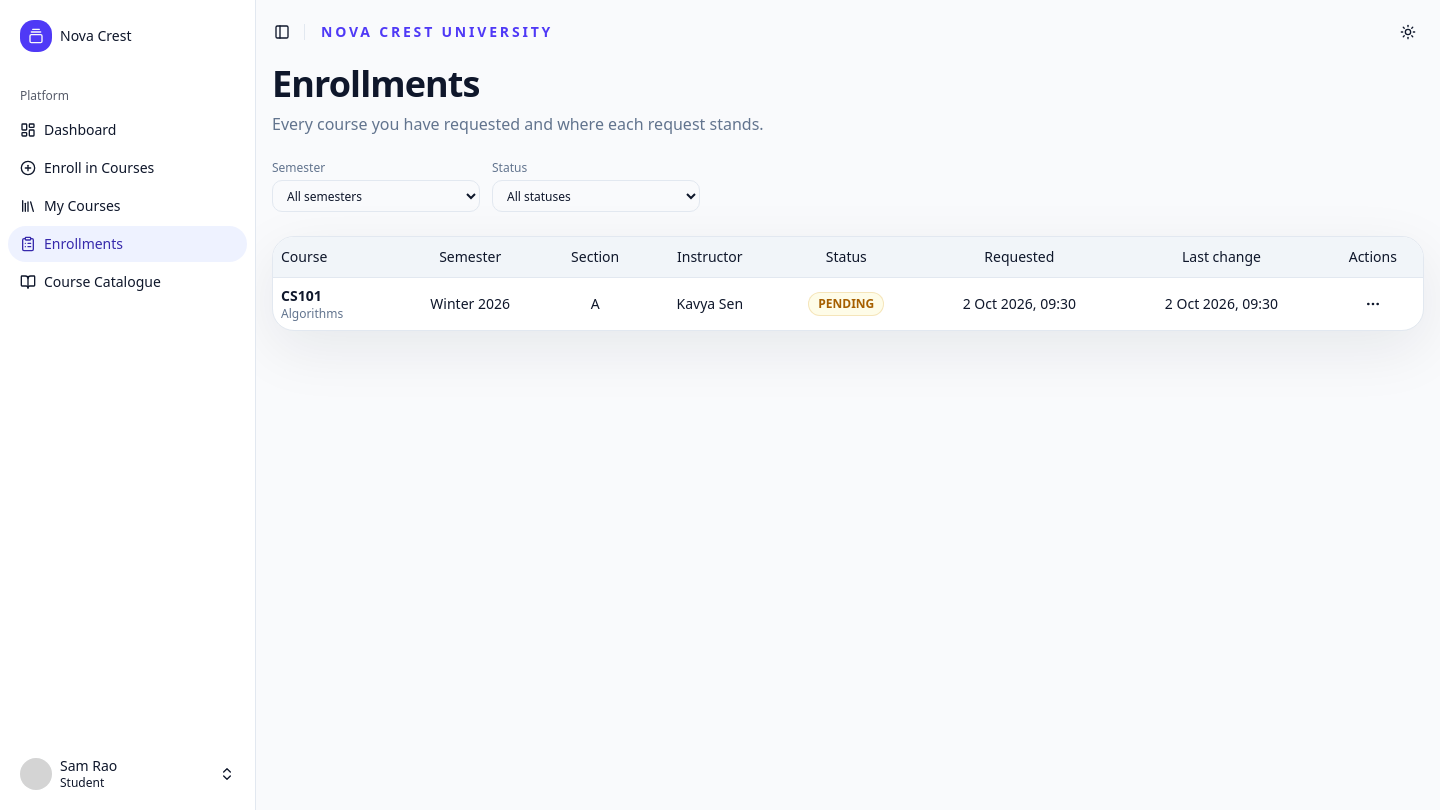
Scenario: MyEnrollmentsView › shows the server message when an action is refused
The width and height of the screenshot is (1440, 810).
Click the button named "Actions for CS101" in the row of "CS101" at {"x": 1373, "y": 304}, box [1357,288,1389,320]
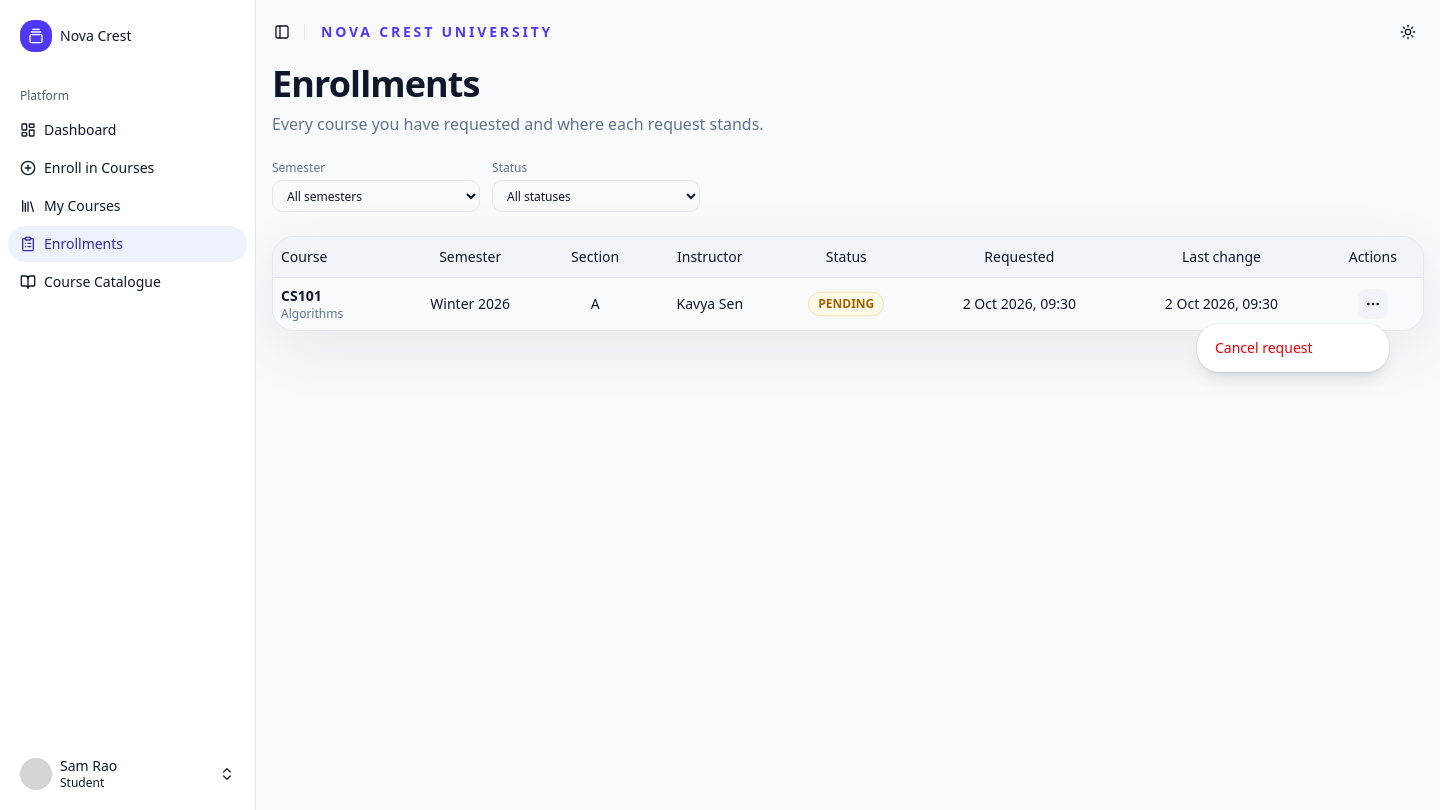
Click the menu item "Cancel request" at {"x": 1264, "y": 348}, box [1215,338,1312,357]
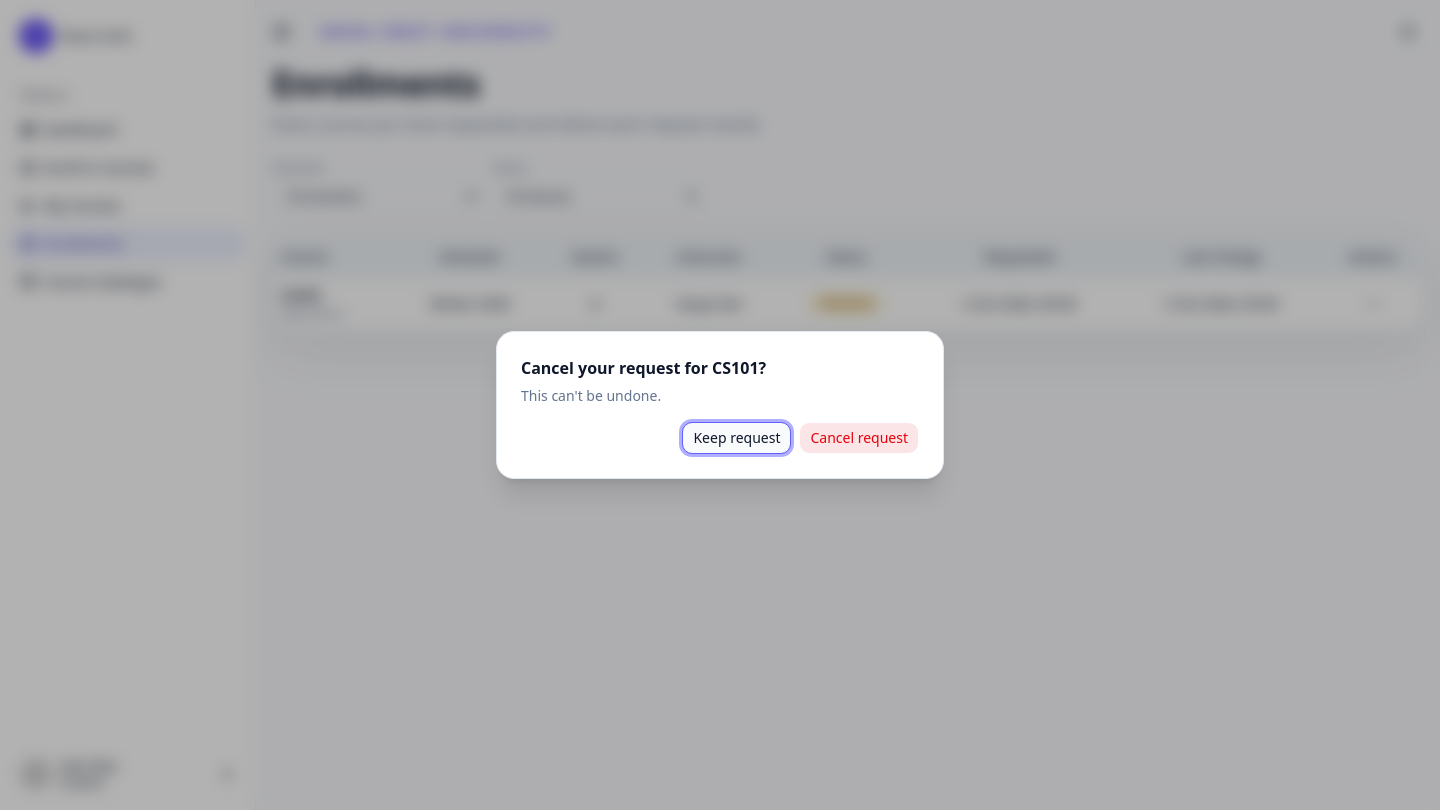
Click the button "Cancel request" at {"x": 859, "y": 438}, box [800,422,919,454]
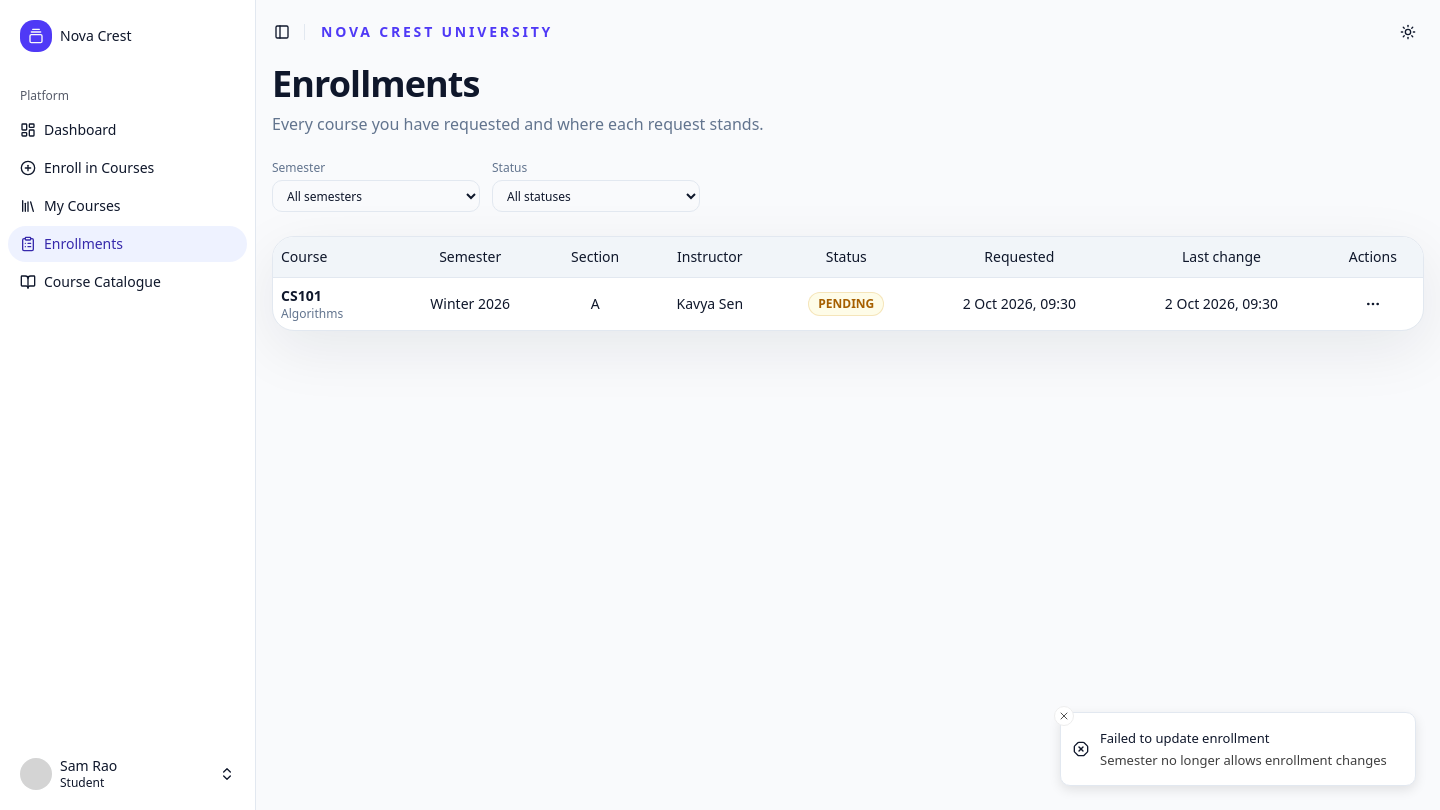
Check: the text "Semester no longer allows enrollment changes" is shown, box [1100,751,1387,769]
